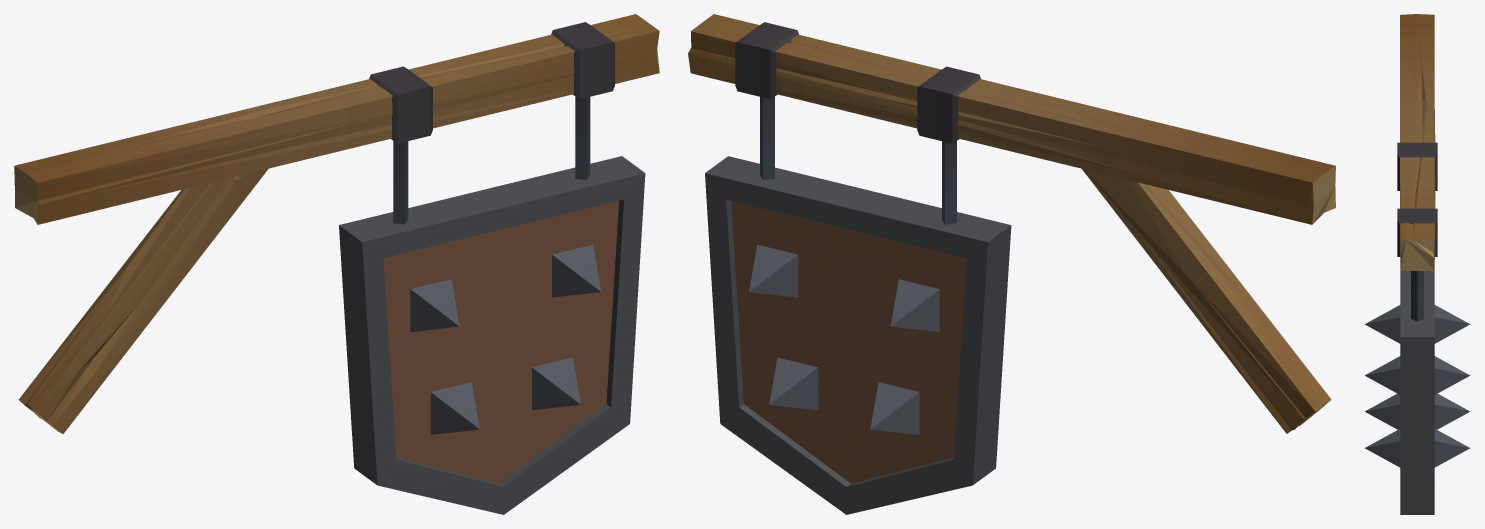
File: SignBoard_2.fbx
3 views of the same model, side by side, from view 1: azimuth 30°, elevation 25°; view 2: azimuth 150°, elevation 25°; view 3: azimuth 270°, elevation 25° (orthographic). The views are drawn at different scales.
Visible parts, largest first — view 1: polySurface10637; view 2: polySurface10637; view 3: polySurface10637.
Part boxes in pixels (<box>): polySurface10637: <box>14,14,659,514</box>; polySurface10637: <box>688,14,1335,514</box>; polySurface10637: <box>1364,14,1470,514</box>.
Size of the model in its own units: 309 by 212 by 61.23.
